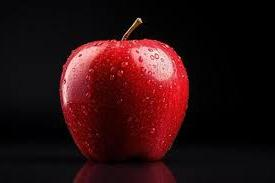apple: (58, 16, 191, 166)
